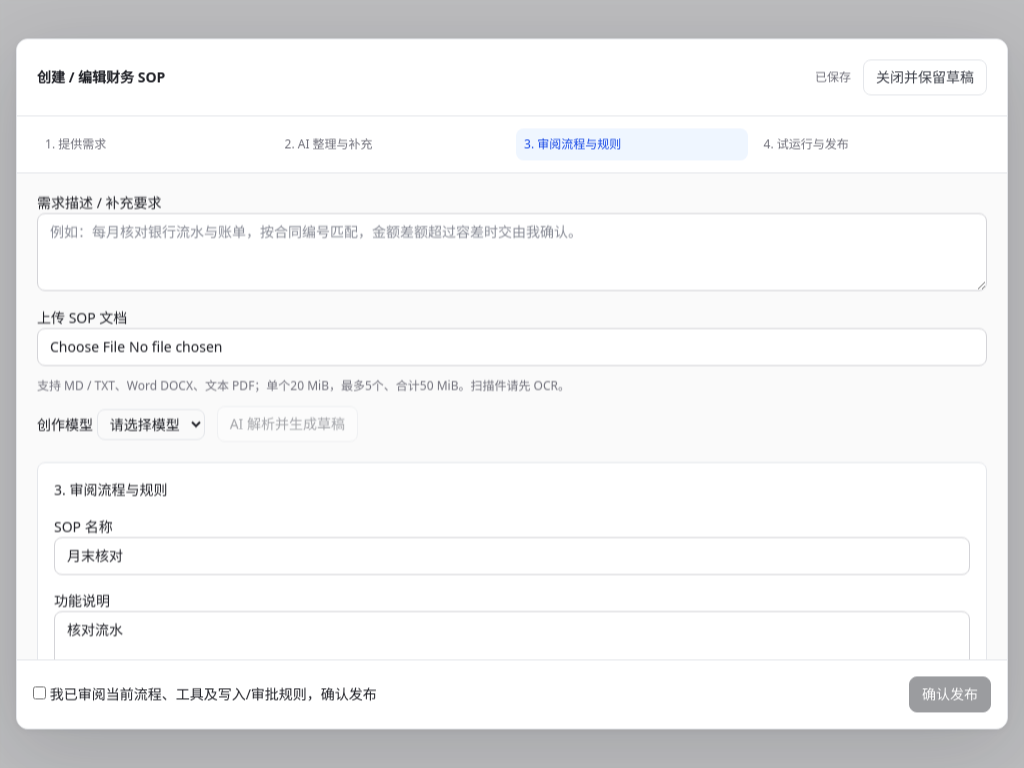
Test case: conflicting_edit_preserves_user_input
Replace the text in the field labelled "SOP 名称" with "不能丢失的编辑" at (512, 557), box [54,538,970,576]
(page scrolled)
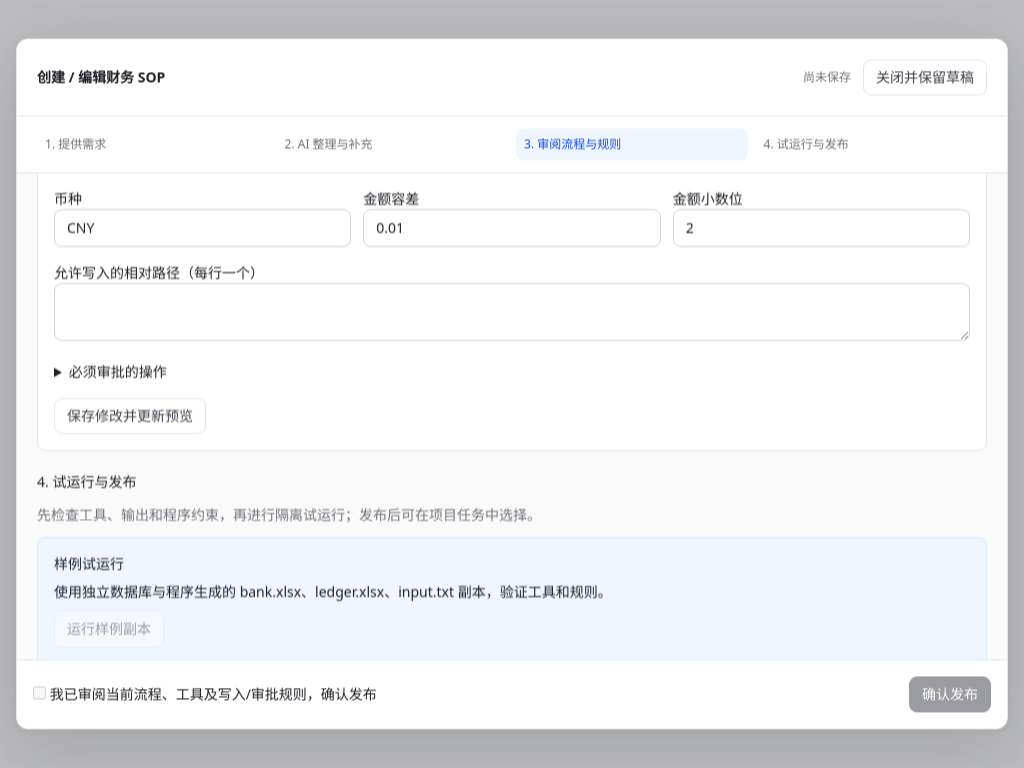
Click the button "保存修改并更新预览" at (130, 416), box [54,398,206,434]
(page scrolled)
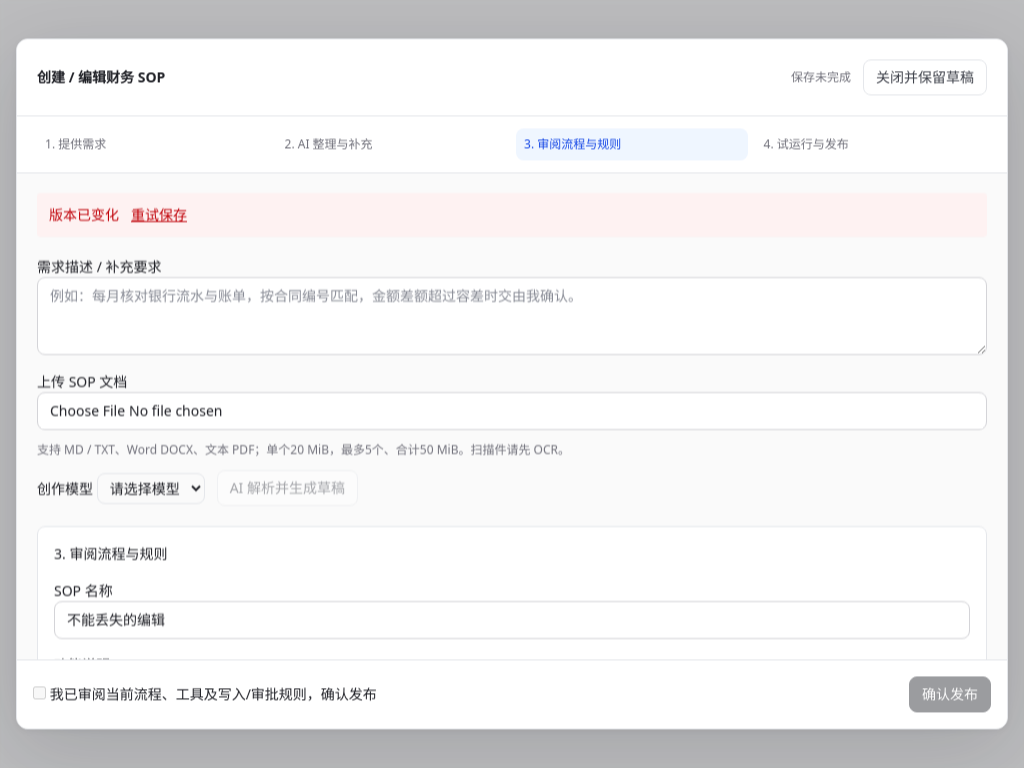
Check: the message "版本已变化 重试保存" is shown, box [37,193,987,237]
